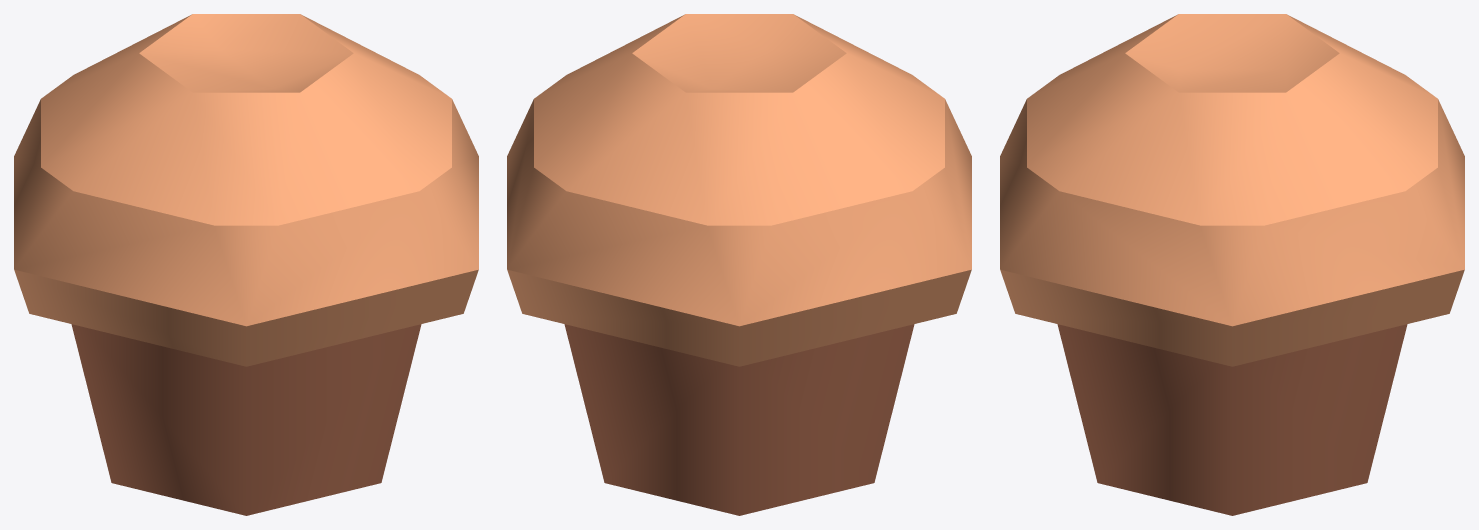
The model's file is muffin.GLB.
The picture shows the model from 3 angles, left to right: view 1: azimuth 30°, elevation 25°; view 2: azimuth 150°, elevation 25°; view 3: azimuth 270°, elevation 25°; orthographic projection.
Visible parts, largest first — view 1: muffin; view 2: muffin; view 3: muffin.
Boxes of the visible parts, x1,y1,x2,y2 form: muffin: (14,14,478,515); muffin: (507,14,971,515); muffin: (1000,14,1464,515).
Size of the model in its own units: 0.3047 by 0.2486 by 0.2639.
